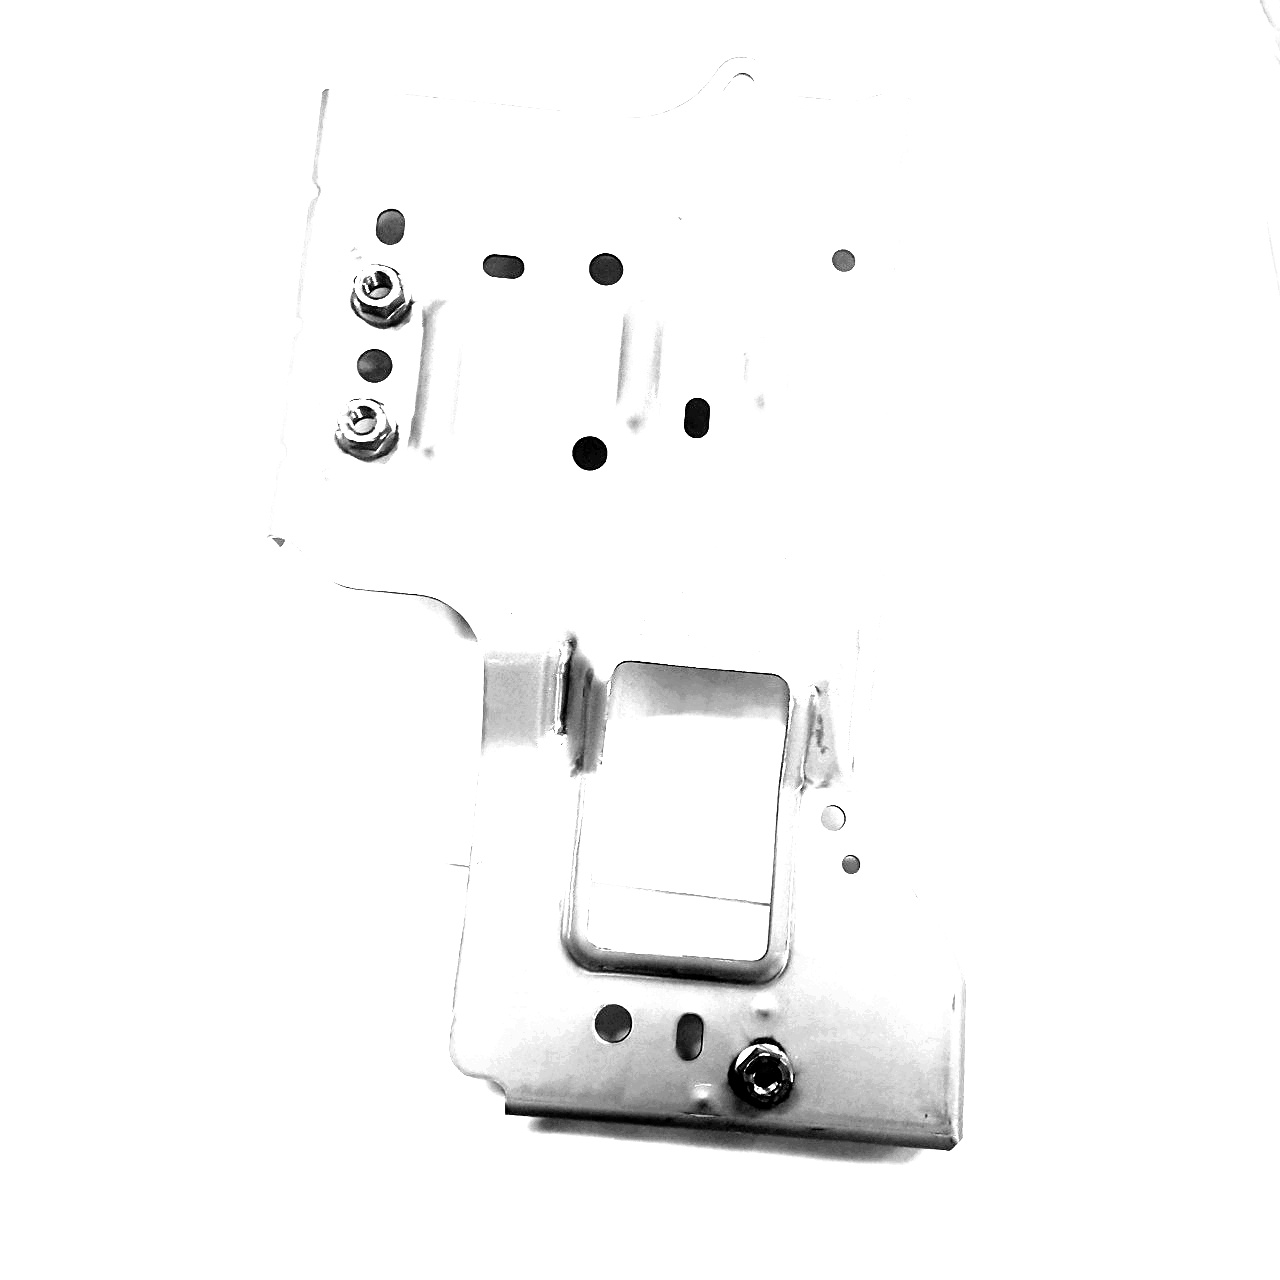dog: (726, 1030, 798, 1112), (346, 260, 420, 334), (328, 390, 402, 464)
